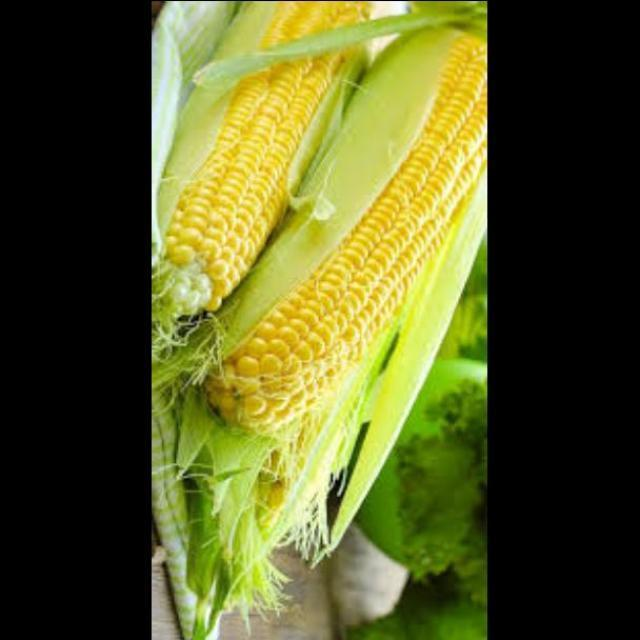corn: (194, 24, 488, 441), (152, 1, 374, 330)
